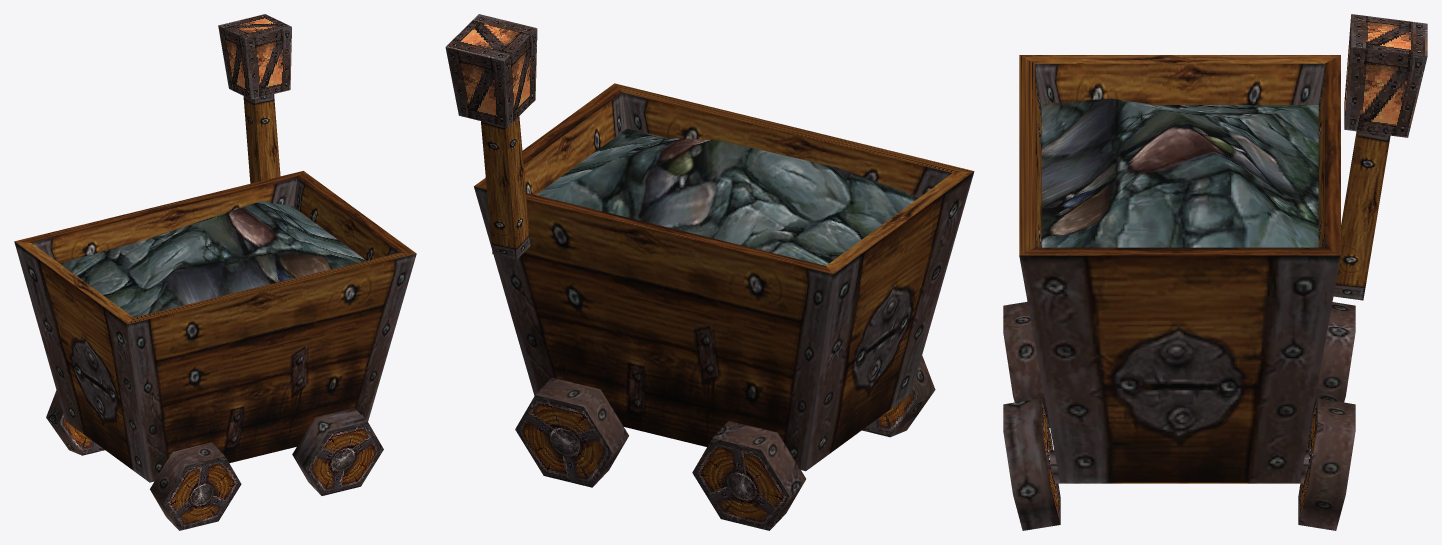
The model's file is gemminecar02.glb.
3 views of the same model, side by side, from view 1: azimuth 30°, elevation 25°; view 2: azimuth 150°, elevation 25°; view 3: azimuth 270°, elevation 25° (orthographic). The views are drawn at different scales.
Bounding box in the file's own units: 2.05 × 2.46 × 1.83.
Materials: 6 (6 with a texture image).
